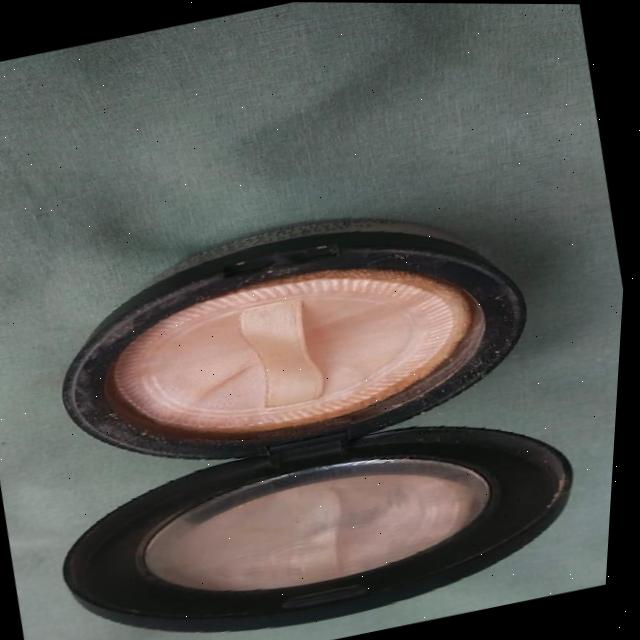blush: (76, 222, 511, 481)
